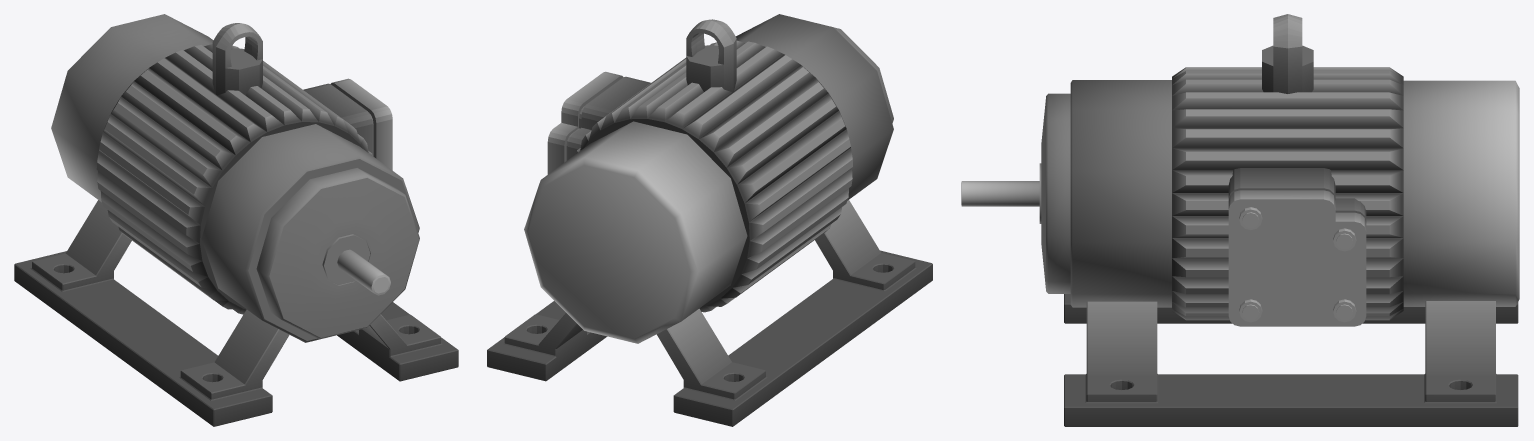
The model's file is Induction Motor.fbx.
The picture shows the model from 3 angles, left to right: view 1: azimuth 30°, elevation 25°; view 2: azimuth 150°, elevation 25°; view 3: azimuth 270°, elevation 25°; orthographic projection. The views are drawn at different scales.
Parts seen in each view (by area): view 1: Cylinder.003, Cylinder, Cube.002, Cylinder.004, Cube.001, Cylinder.002; view 2: Cylinder.004, Cylinder, Cube.002, Cylinder.003, Cube.001, Cylinder.002; view 3: Cylinder, Cube.002, Cylinder.003, Cylinder.004, Cube.001, Cylinder.002.
Boxes of the visible parts, x1,y1,x2,y2 form: Cylinder.003: (201, 124, 419, 342); Cylinder: (96, 44, 372, 314); Cube.002: (14, 200, 458, 426); Cylinder.004: (51, 14, 213, 202); Cube.001: (303, 78, 392, 170); Cylinder.002: (212, 23, 262, 95); Cylinder.004: (524, 121, 747, 343); Cylinder: (575, 40, 852, 312); Cube.002: (487, 200, 932, 426); Cylinder.003: (736, 14, 893, 200); Cube.001: (547, 71, 650, 174); Cylinder.002: (686, 19, 736, 92); Cylinder: (1172, 67, 1403, 320); Cube.002: (1064, 294, 1518, 426); Cylinder.003: (961, 80, 1171, 307); Cylinder.004: (1403, 80, 1519, 306); Cube.001: (1228, 168, 1366, 326); Cylinder.002: (1262, 14, 1313, 93).
Bounding box in the file's own units: 432 × 484 × 713.
Materials: 1 (1 with a texture image).
